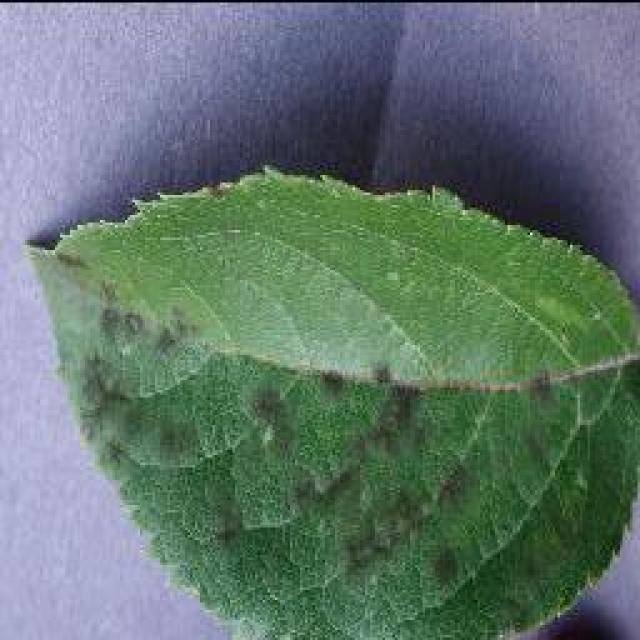apple scab disease: (20, 160, 638, 638)
